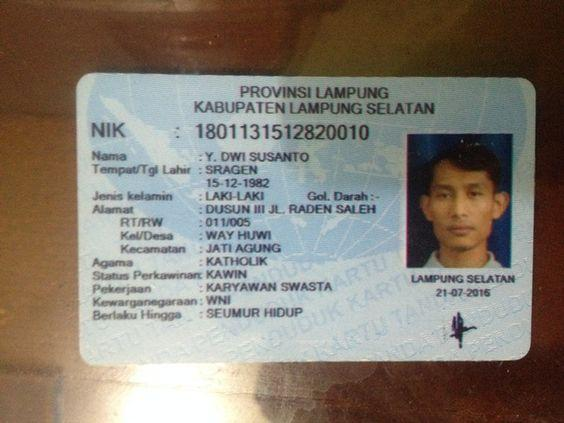ID-card: (80, 78, 527, 358)
